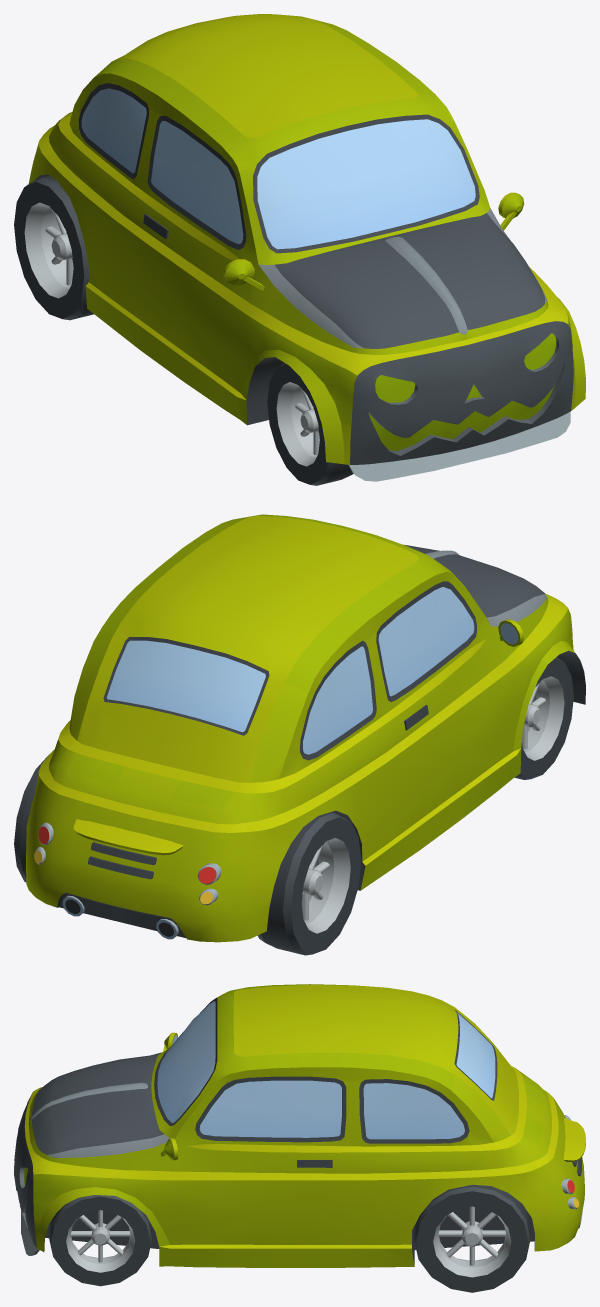
Rendered from Car_06.fbx.
3 renders of one model, top to bottom at view 1: azimuth 30°, elevation 25°; view 2: azimuth 150°, elevation 25°; view 3: azimuth 270°, elevation 25°, orthographic. The views are drawn at different scales.
Parts seen in each view (by area): view 1: Car_06_body1, Car_06_wheel1, Car_06_wheel2; view 2: Car_06_body1, Car_06_wheel1, Car_06_wheel2; view 3: Car_06_body1, Car_06_wheel1, Car_06_wheel2.
Boxes of the visible parts, x1,y1,x2,y2 form: Car_06_body1: (28,14,585,481); Car_06_wheel1: (14,175,93,320); Car_06_wheel2: (267,363,353,485); Car_06_body1: (26,514,585,942); Car_06_wheel1: (14,754,361,955); Car_06_wheel2: (515,657,573,779); Car_06_body1: (14,984,585,1267); Car_06_wheel1: (414,1184,530,1292); Car_06_wheel2: (49,1195,151,1286).
Bounding box in the file's own units: 0.5568 × 0.5142 × 1.15.
